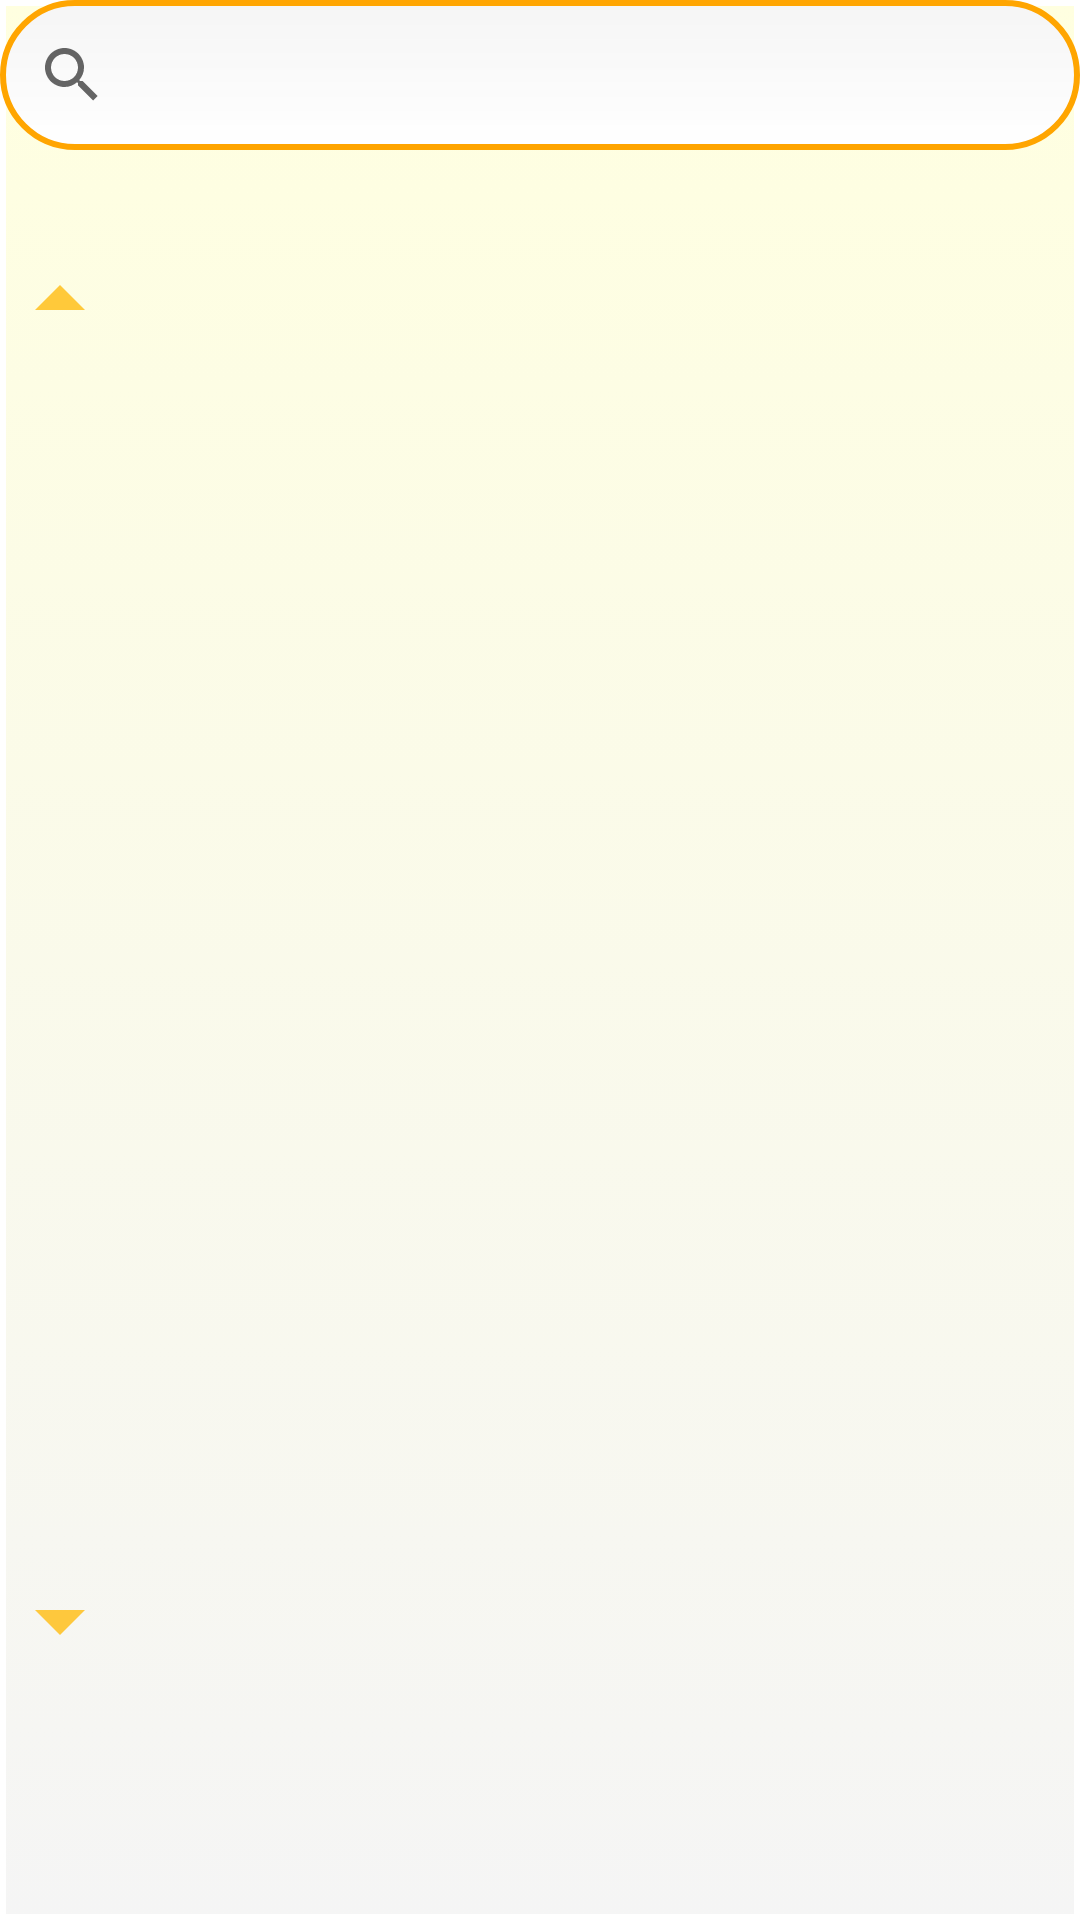

Where icons sit on this 1080 × 1920 app screen, as bbox(x1, y1, x2, y2):
down arrow: bbox(35, 1610, 85, 1635)
